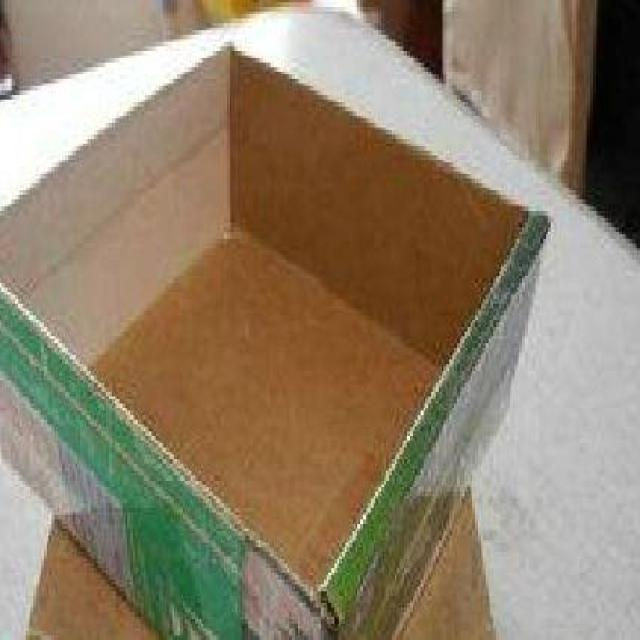cardboard: (0, 44, 545, 640)
